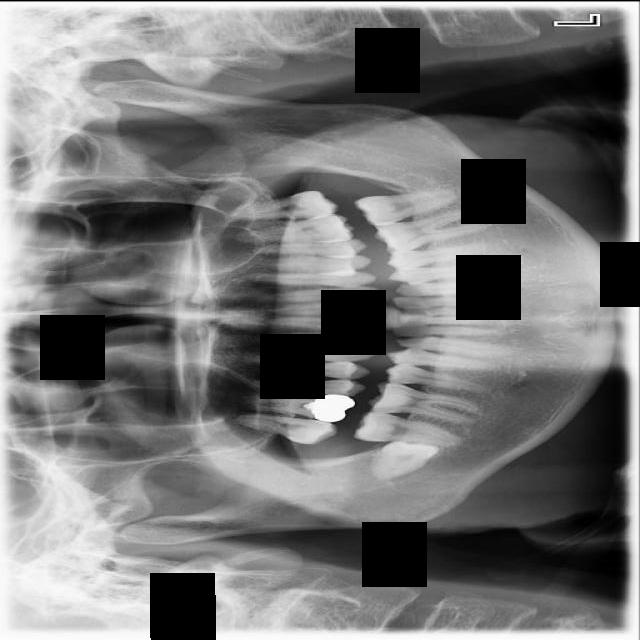52: (363, 373, 416, 424), (304, 389, 357, 426)
73: (576, 38, 589, 46)
BioHorizons Implant: (231, 189, 339, 221)
Blue Sky Bio Implant: (353, 188, 459, 227)
Caries: (234, 409, 339, 448)
Implant: (353, 409, 460, 448)
Keystone Dental Implant: (366, 426, 444, 484)
